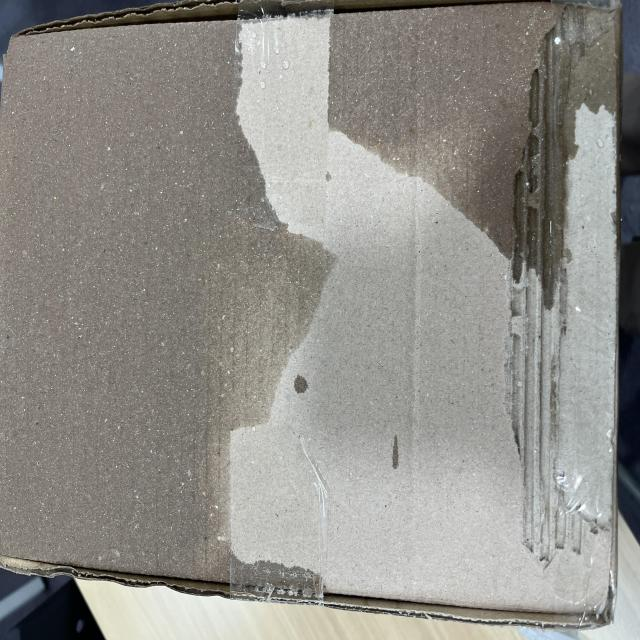wet: (35, 26, 480, 640)
